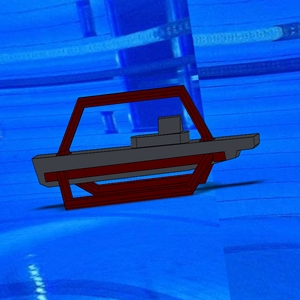submarine: (23, 79, 267, 216)
